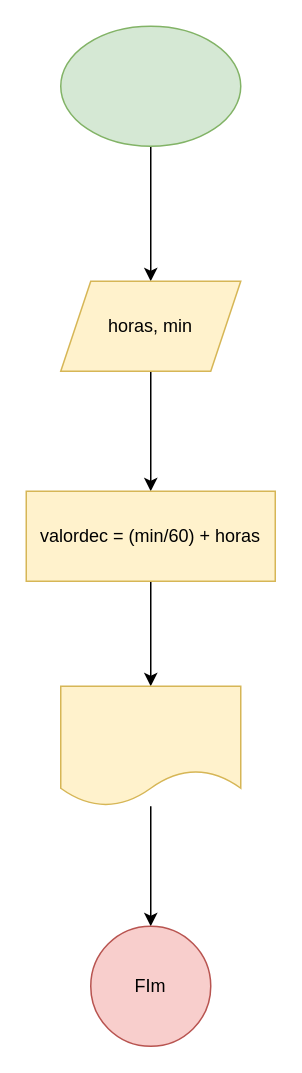
The diagram is 302 pixels wide and 1073 high, and some of its shapes have lost their labels. Each missing label, with the centre of its shape:
"Início" belongs at point 150,85.
"valordec" belongs at point 150,745.
